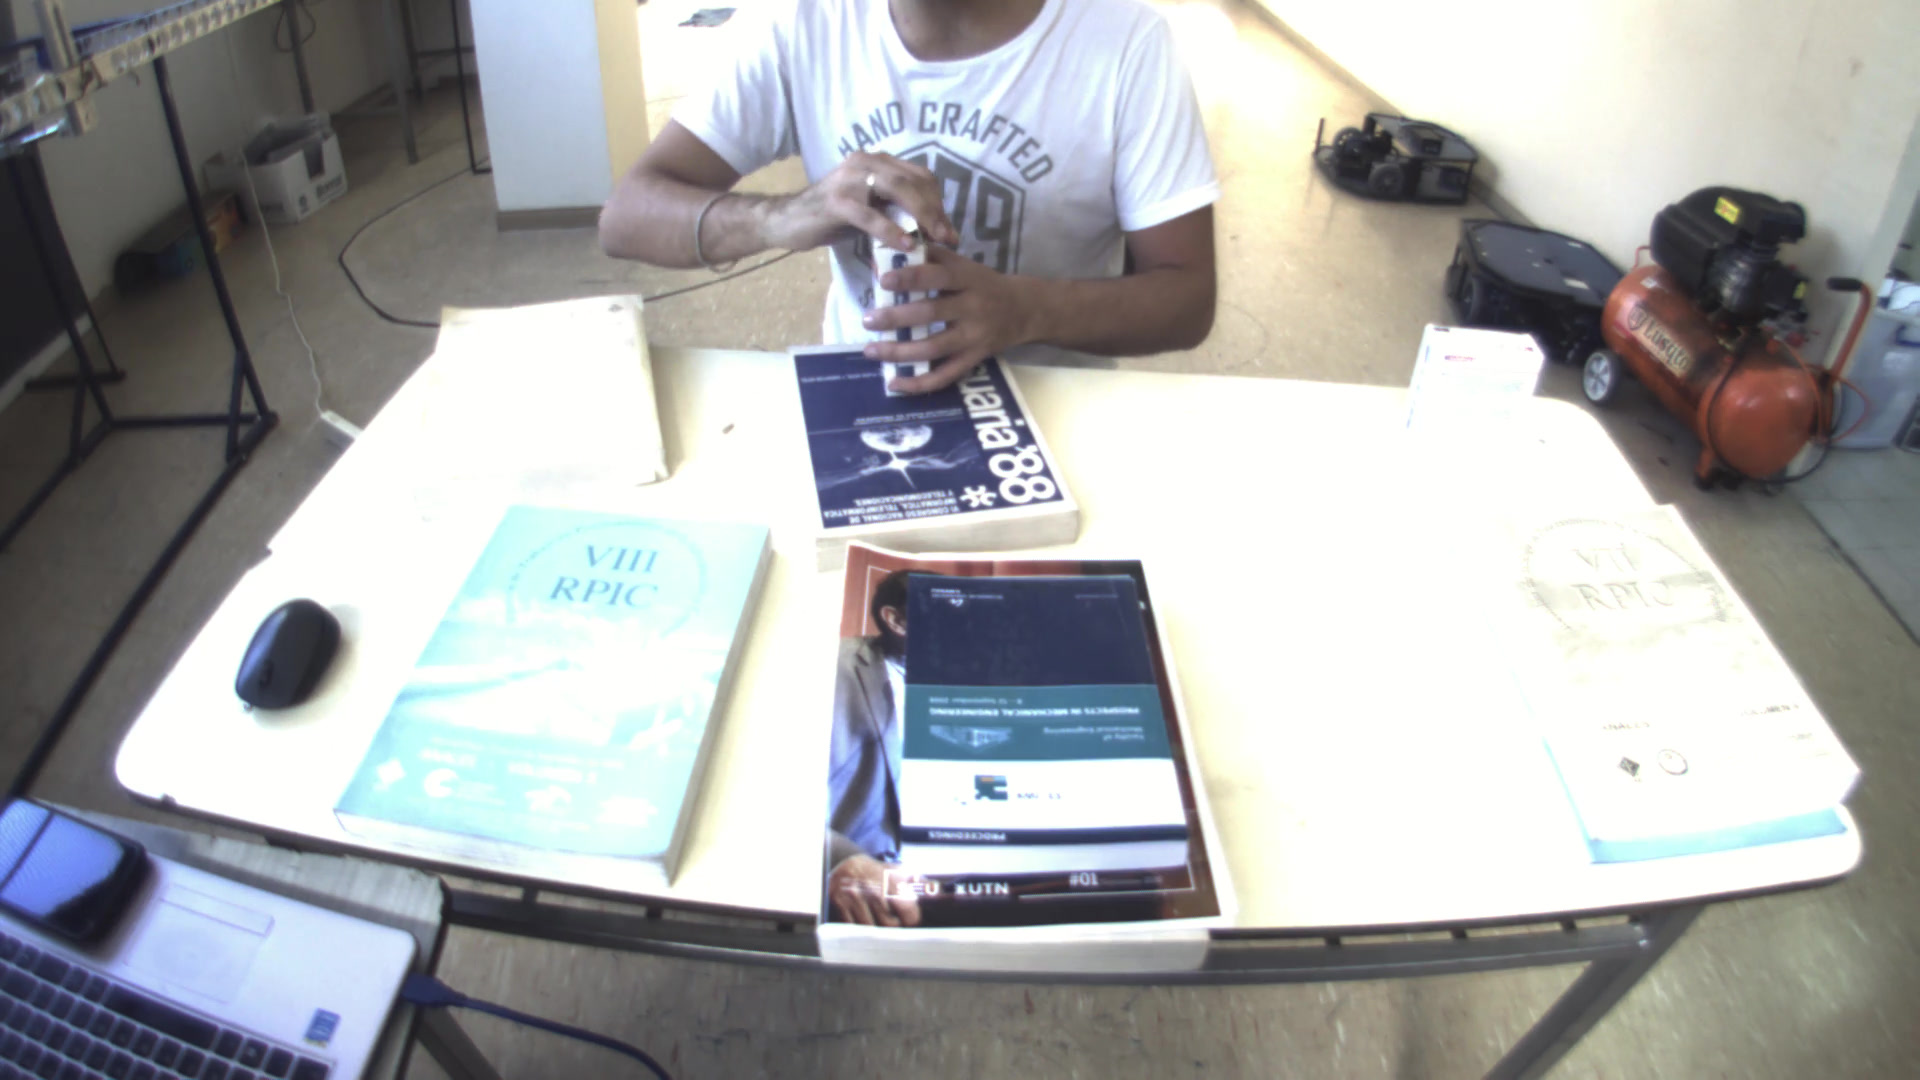hand: (849, 233, 1027, 396), (808, 138, 963, 253)
